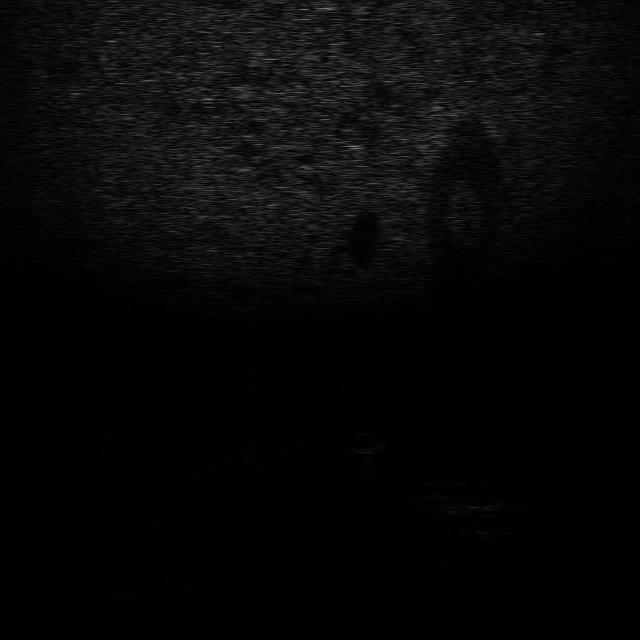ball: (341, 427, 391, 456)
metal bucket: (446, 508, 512, 540)
tyre: (423, 476, 508, 514)
